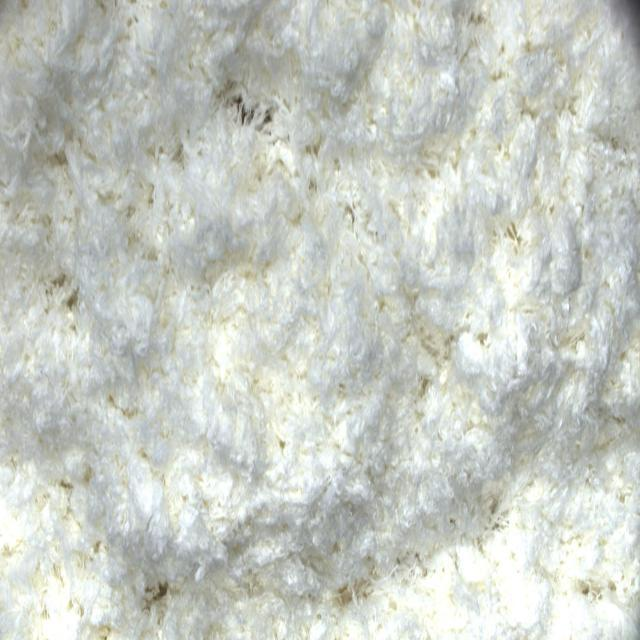dust: (230, 91, 281, 145), (144, 583, 177, 625)
